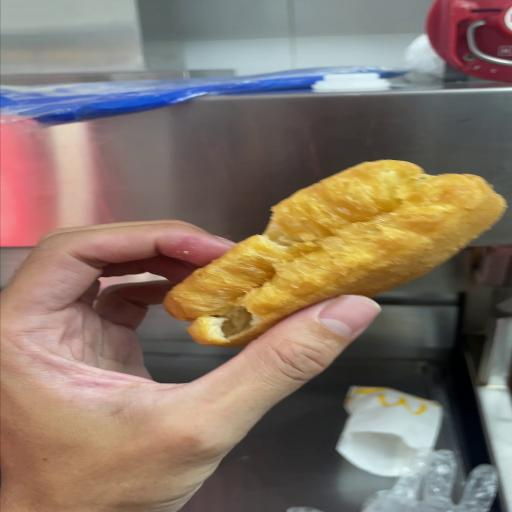brand_golden_defect: (164, 160, 506, 346)
